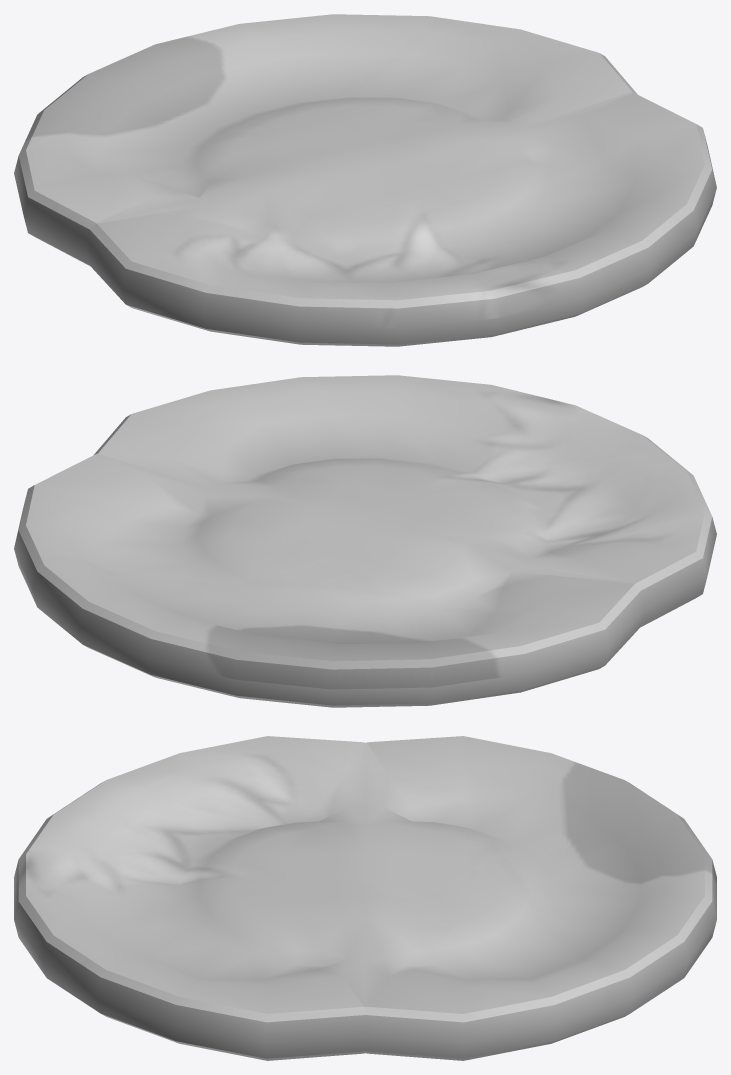
File: Food_Tomato.FBX
3 renders of one model, top to bottom at view 1: azimuth 30°, elevation 25°; view 2: azimuth 150°, elevation 25°; view 3: azimuth 270°, elevation 25°, orthographic.
Parts seen in each view (by area): view 1: Tomato; view 2: Tomato; view 3: Tomato.
Part boxes in pixels (left/top/right/bottom): Tomato: left=14, top=14, right=716, bottom=346; Tomato: left=14, top=375, right=716, bottom=707; Tomato: left=14, top=736, right=716, bottom=1060.
Bounding box in the file's own units: 0.2274 × 0.0173 × 0.2345.
